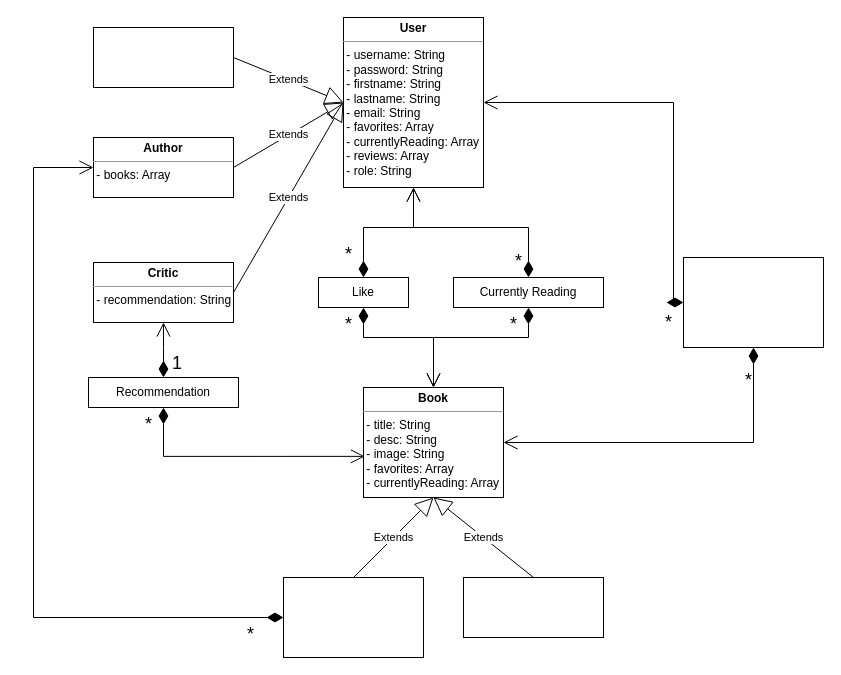
This 841x675 diagram has some shape labels left out. Each missing label, with the centre of its shape:
API Book - authors: String: point (533, 607)
Reader: point (163, 57)
Review - title: String - author: String - rating: Number - text: String: point (753, 302)
User Book - username: String - author_first: String - author_last: String: point (353, 617)
